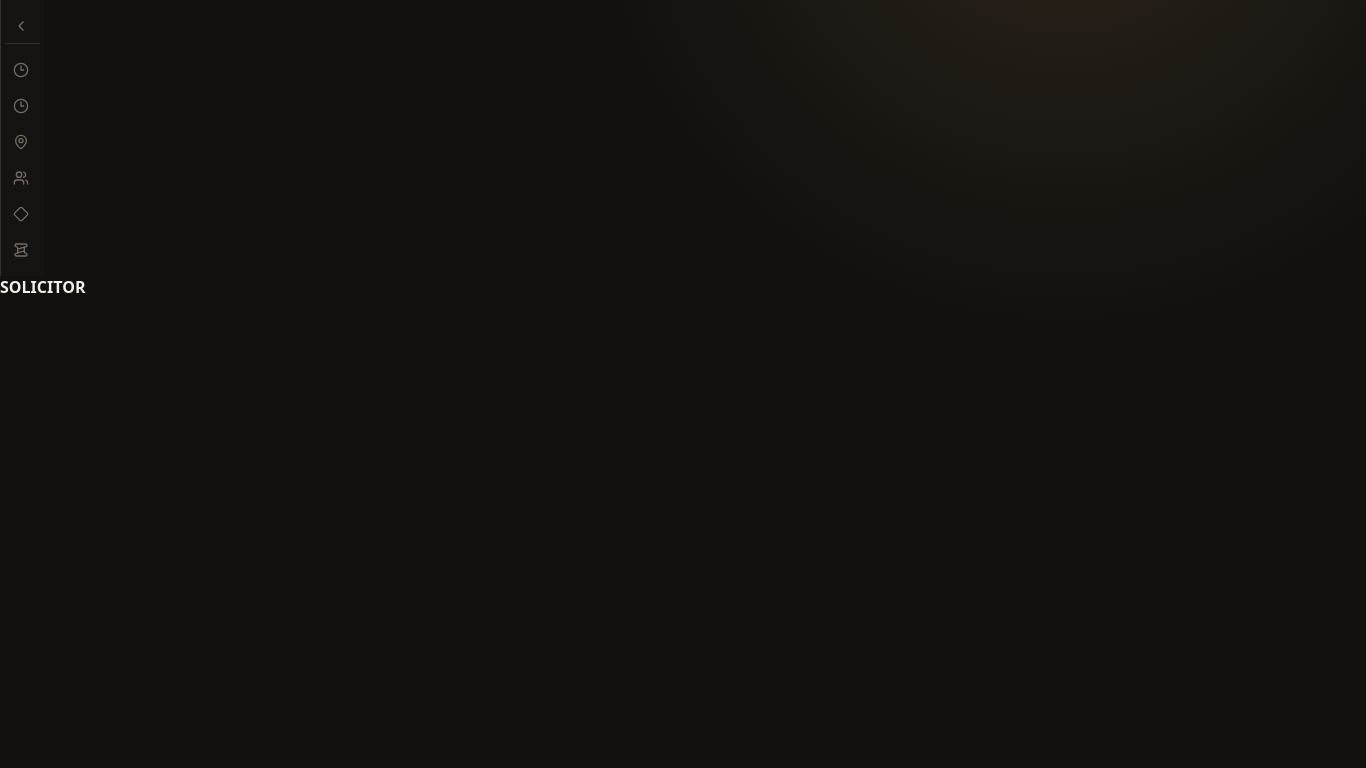
it: reveals an icon from the cue, then opens the canonical card only from icon hover
Hover over the text "SOLICITOR" at (43, 287), box [0,276,86,298]
Wait 301 ms
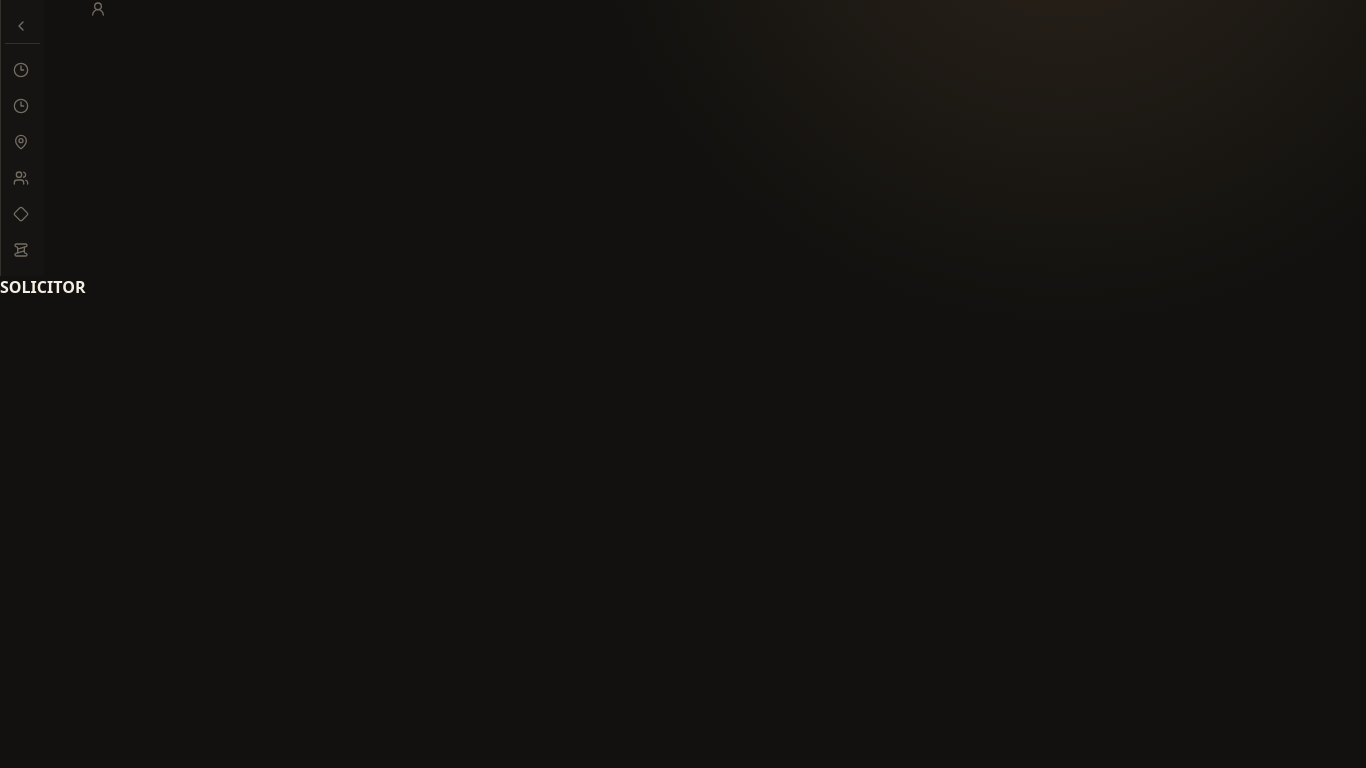
Hover over the button named "Open character inspector" at (98, 9), box [90,1,106,17]
Wait 301 ms
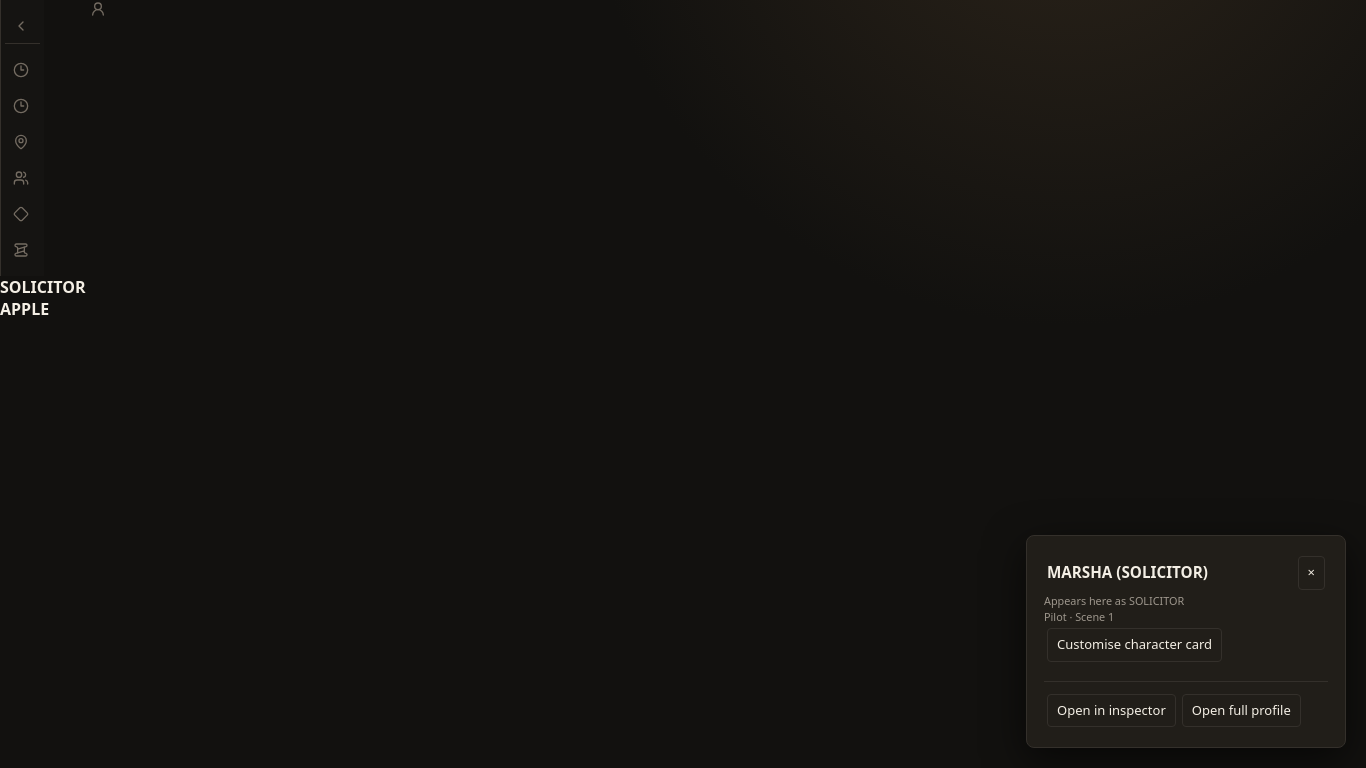
Expected: the dialog named "character quick card" shows "MARSHA", [1047,561,1208,584]
Expected: the dialog named "character quick card" shows "Appears here as SOLICITOR", [1026,535,1346,748]
Hover over the button named "Open character inspector" at (98, 9), box [90,1,106,17]
Wait 301 ms
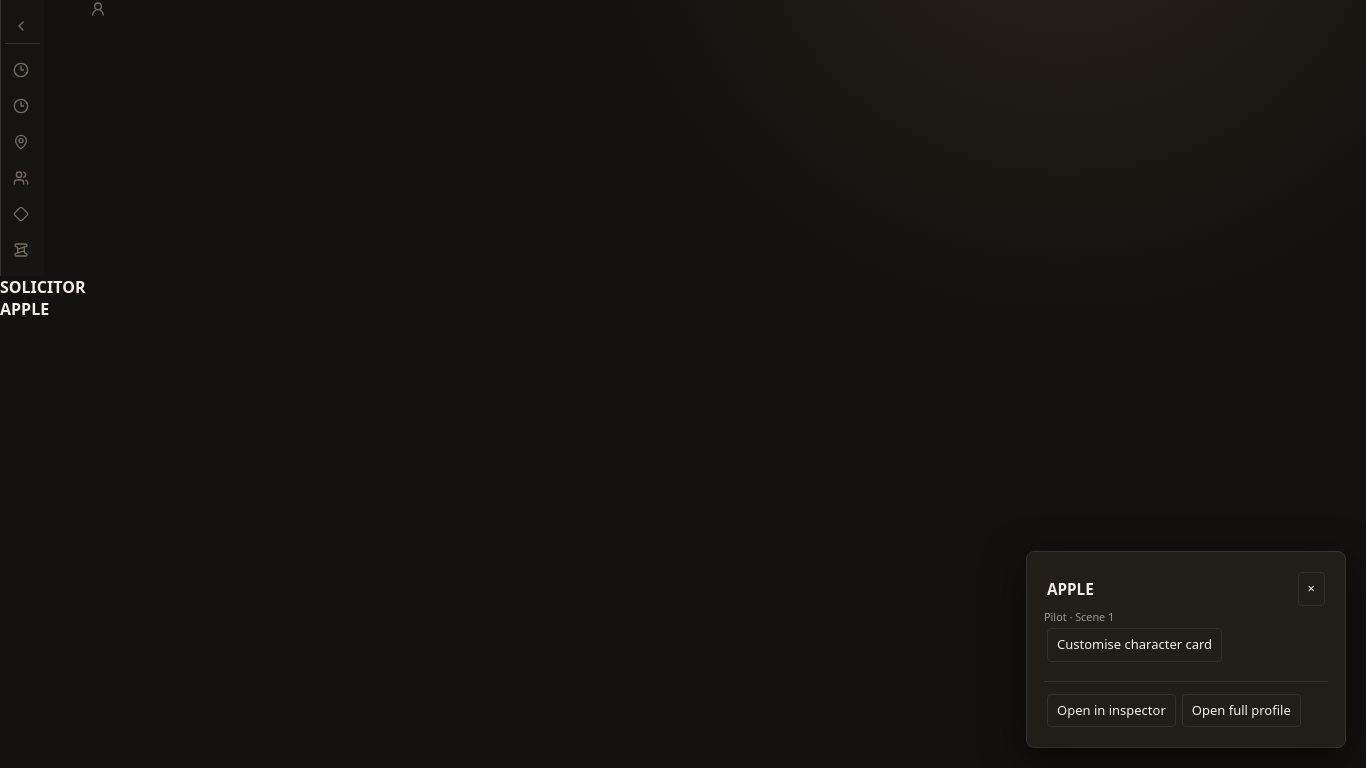
Expected: the dialog named "character quick card" shows "APPLE", [1047,578,1094,600]
